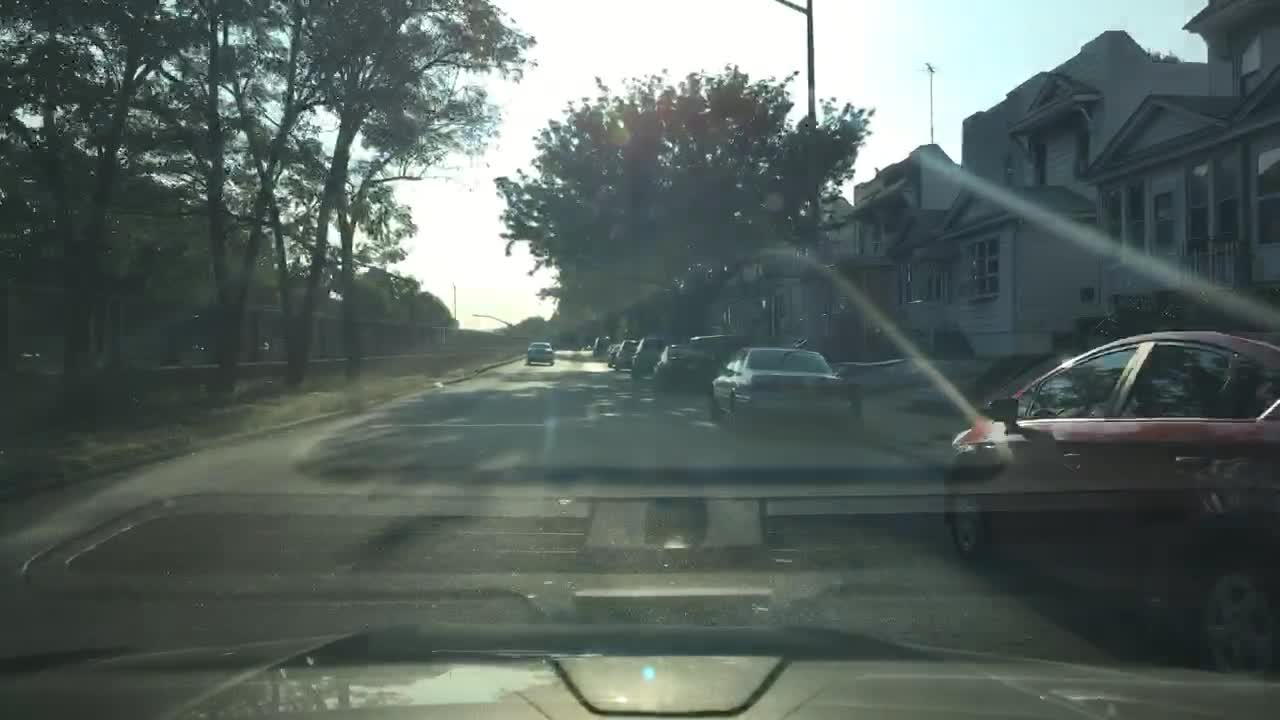car: (942, 330, 1278, 677), (708, 347, 860, 435), (651, 333, 749, 379), (630, 337, 688, 379), (525, 340, 556, 366), (615, 337, 640, 369), (590, 335, 608, 357), (606, 341, 620, 367)
